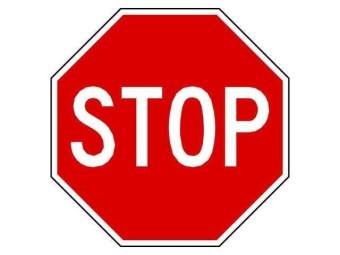SS: (48, 8, 288, 248)
